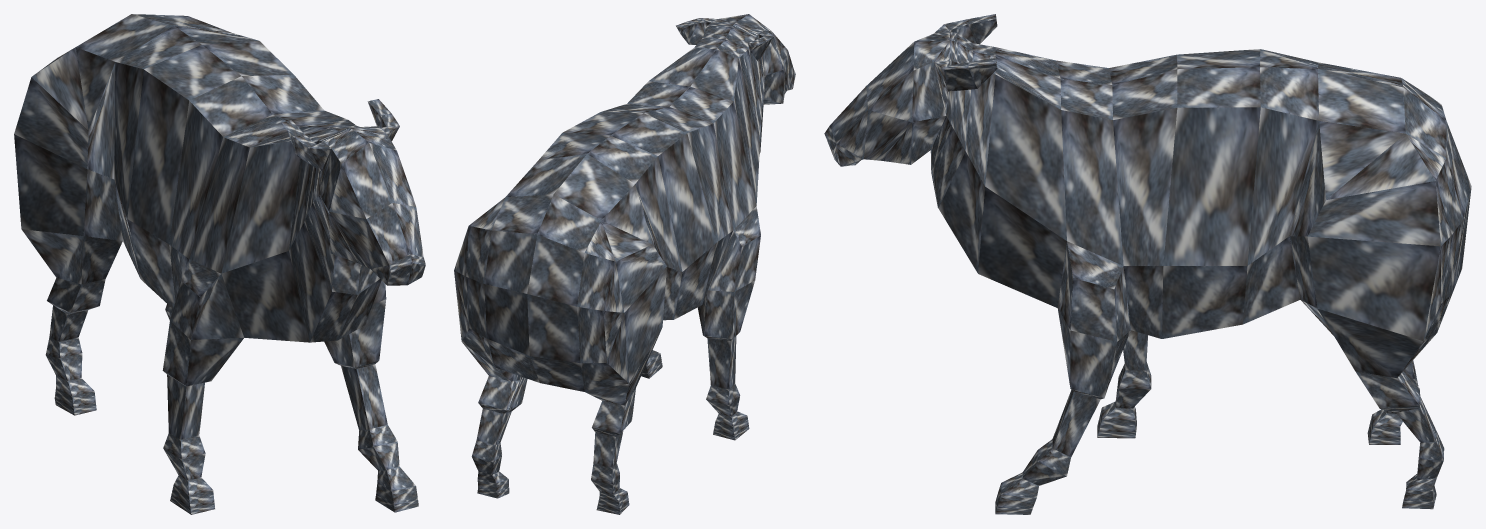
The model's file is SheepIdle_000049.obj.
3 renders of one model, left to right at view 1: azimuth 30°, elevation 25°; view 2: azimuth 150°, elevation 25°; view 3: azimuth 270°, elevation 25°, orthographic. The views are drawn at different scales.
Visible parts, largest first — view 1: Sheep_Cylinder; view 2: Sheep_Cylinder; view 3: Sheep_Cylinder.
Part boxes in pixels (left/top/right/bottom): Sheep_Cylinder: left=14, top=14, right=425, bottom=514; Sheep_Cylinder: left=454, top=14, right=795, bottom=514; Sheep_Cylinder: left=824, top=14, right=1471, bottom=514.
Size of the model in its own units: 2.22 by 4.4 by 5.92.
